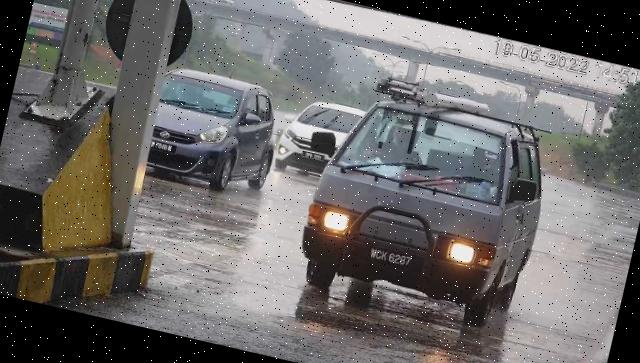License_Plate: (358, 240, 428, 278)
van: (292, 67, 564, 336)
